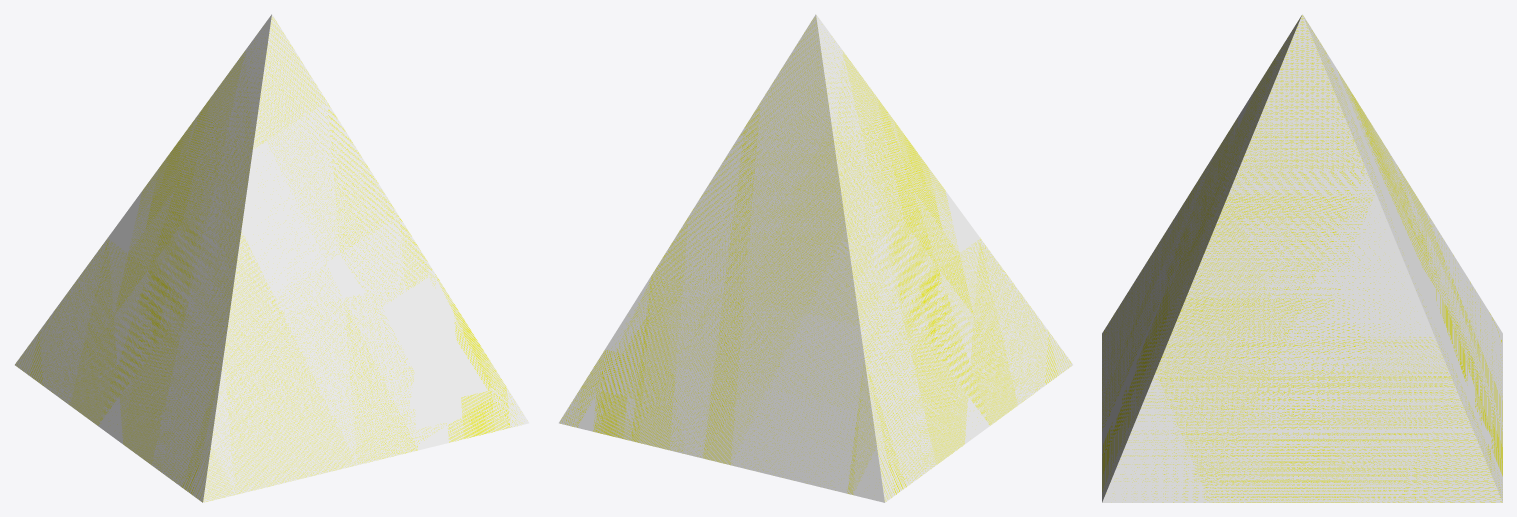
The model's file is YellowPyramid.dae.
3 renders of one model, left to right at view 1: azimuth 30°, elevation 25°; view 2: azimuth 150°, elevation 25°; view 3: azimuth 270°, elevation 25°, orthographic. The views are drawn at different scales.
Visible parts, largest first — view 1: SketchUp; view 2: SketchUp; view 3: SketchUp.
Boxes of the visible parts, x1,y1,x2,y2 form: SketchUp: [15, 14, 528, 502]; SketchUp: [559, 14, 1072, 502]; SketchUp: [1102, 14, 1502, 502].
Size of the model in its own units: 18.88 by 18.88 by 21.
